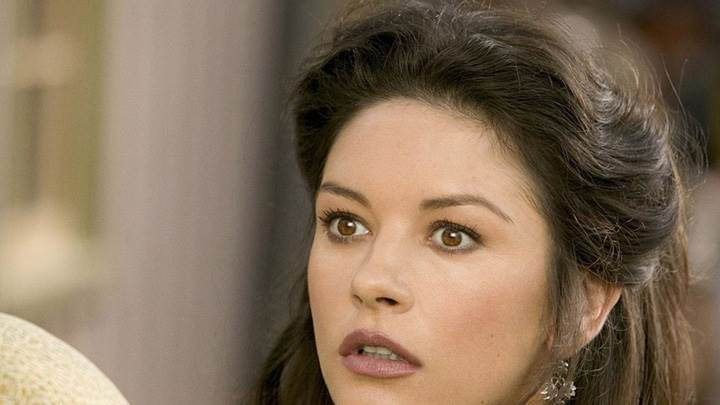confused: (302, 137, 530, 405)
